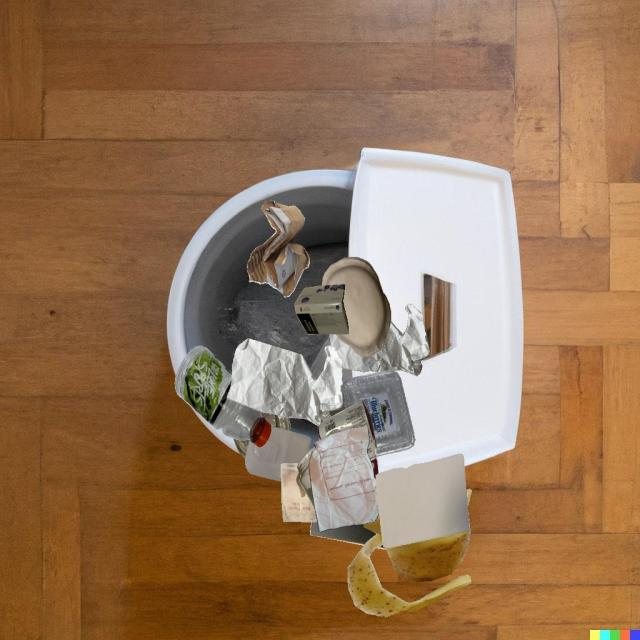biowaste: (348, 513, 471, 617), (394, 512, 470, 582)
cardboard: (247, 201, 310, 297), (294, 284, 349, 334), (310, 522, 377, 545)
glass: (297, 446, 315, 509), (261, 412, 290, 431), (234, 438, 250, 459)
paper: (227, 338, 344, 426), (376, 453, 470, 548), (309, 426, 379, 532), (330, 304, 430, 376), (322, 257, 391, 357), (281, 463, 317, 522)
plastic: (175, 346, 271, 448), (342, 370, 415, 457), (318, 401, 379, 480), (245, 427, 311, 482)
